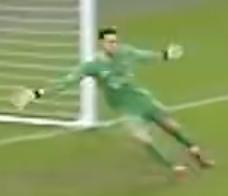goalkeeper: (4, 17, 228, 196)
